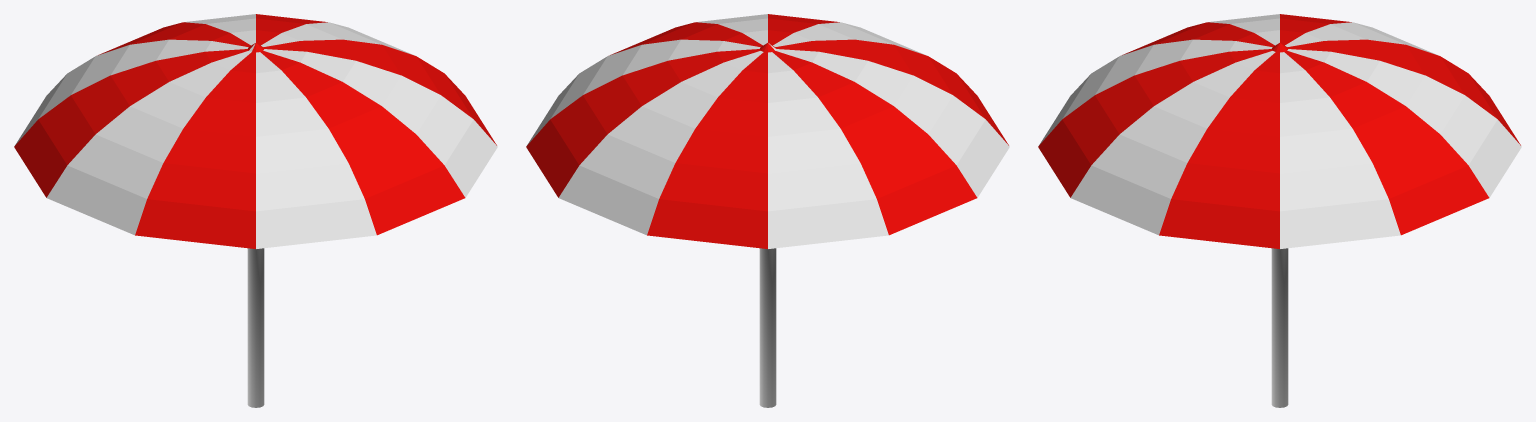
The model's file is Sombrilla2.fbx.
3 views of the same model, side by side, from view 1: azimuth 30°, elevation 25°; view 2: azimuth 150°, elevation 25°; view 3: azimuth 270°, elevation 25° (orthographic).
Visible parts, largest first — view 1: Sombrilla.003, Palo.003; view 2: Sombrilla.003, Palo.003; view 3: Sombrilla.003, Palo.003.
Boxes of the visible parts, box(x1,y1,x2,y2) form: Sombrilla.003: box(14, 14, 497, 248); Palo.003: box(247, 248, 264, 407); Sombrilla.003: box(526, 14, 1009, 248); Palo.003: box(759, 248, 776, 407); Sombrilla.003: box(1038, 14, 1521, 248); Palo.003: box(1271, 248, 1288, 407).
Size of the model in its own units: 276 by 227 by 276.
